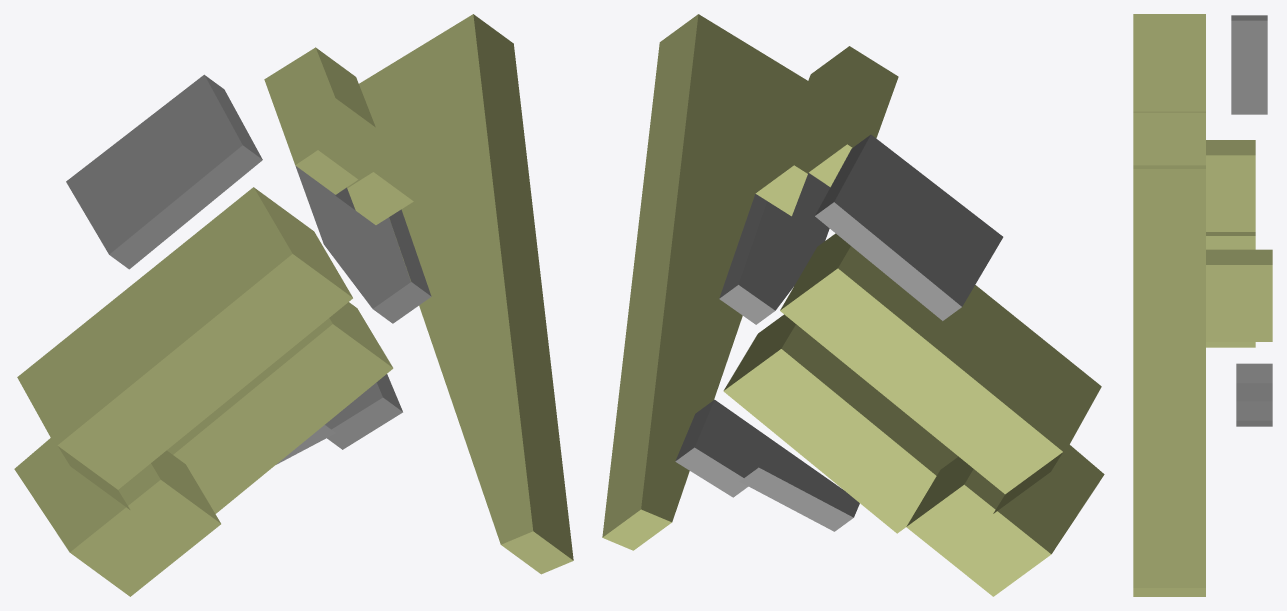
3 views of the same model, side by side, from view 1: azimuth 30°, elevation 25°; view 2: azimuth 150°, elevation 25°; view 3: azimuth 270°, elevation 25° (orthographic). The views are drawn at different scales.
Parts seen in each view (by area): view 1: 0_3_1_0_3_3_3_3_2; view 2: 0_3_1_0_3_3_3_3_2; view 3: 0_3_1_0_3_3_3_3_2.
Part boxes in pixels (x1,y1,x2,y2): 0_3_1_0_3_3_3_3_2: (14, 14, 573, 596); 0_3_1_0_3_3_3_3_2: (602, 14, 1104, 596); 0_3_1_0_3_3_3_3_2: (1133, 14, 1272, 596).
Size of the model in its own units: 42.09 by 44.42 by 11.5.
